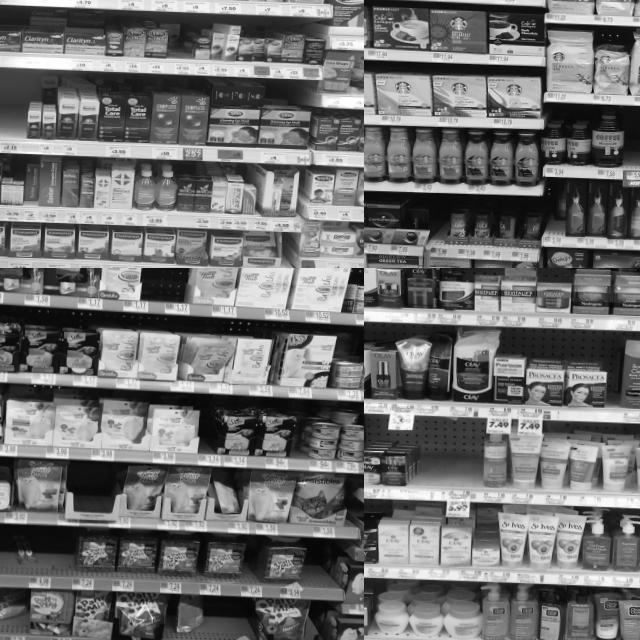100- O.O.S: (420, 420, 482, 502), (36, 526, 76, 590), (0, 69, 28, 153), (201, 597, 250, 640), (145, 268, 187, 314), (306, 538, 330, 600), (623, 110, 640, 181), (200, 410, 217, 466), (0, 523, 11, 587)
